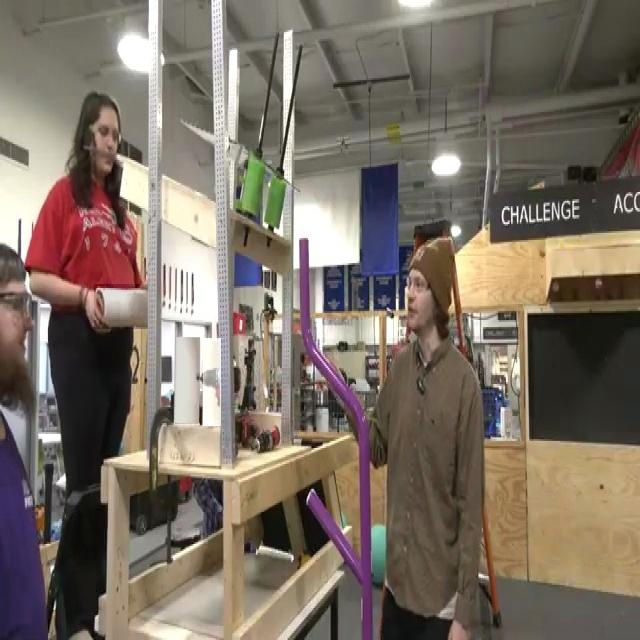Coral: (94, 284, 148, 329), (175, 338, 200, 426), (203, 338, 221, 426)
